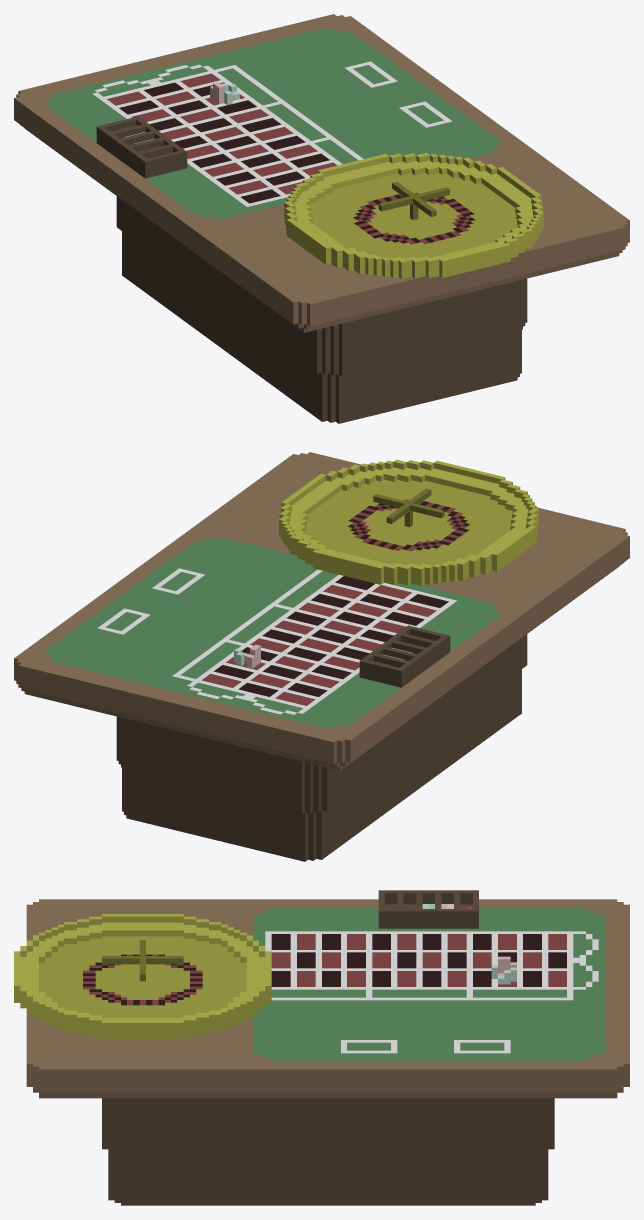
The model's file is rouletteTable1.fbx.
The picture shows the model from 3 angles, top to bottom: view 1: azimuth 30°, elevation 25°; view 2: azimuth 150°, elevation 25°; view 3: azimuth 270°, elevation 25°; orthographic projection. The views are drawn at different scales.
Parts seen in each view (by area): view 1: Box, Disc_1, Box_2, Box_1; view 2: Box, Disc_1, Box_2, Box_1; view 3: Box, Disc_1, Box_2, Box_1.
Boxes of the visible parts, <box> form: Box: <box>14,14,629,423</box>; Disc_1: <box>284,152,544,278</box>; Box_2: <box>96,116,187,178</box>; Box_1: <box>378,181,449,216</box>; Box: <box>14,452,629,861</box>; Disc_1: <box>279,459,538,585</box>; Box_2: <box>359,625,450,687</box>; Box_1: <box>373,488,444,523</box>; Box: <box>26,899,629,1205</box>; Disc_1: <box>14,914,271,1039</box>; Box_2: <box>378,890,478,928</box>; Box_1: <box>102,940,183,980</box>.
Size of the model in its own units: 64 by 35 by 98.
